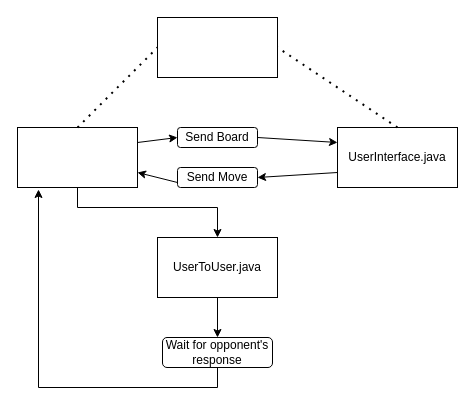
Image size: 475x413. Some labels were removed from this diagram. The shapes that lost their labels are listed below. From the top down, each one's centre as x and y in pixels, then its label:
At point (217, 47): "app.java".
At point (77, 157): "ChessEngine.java".
